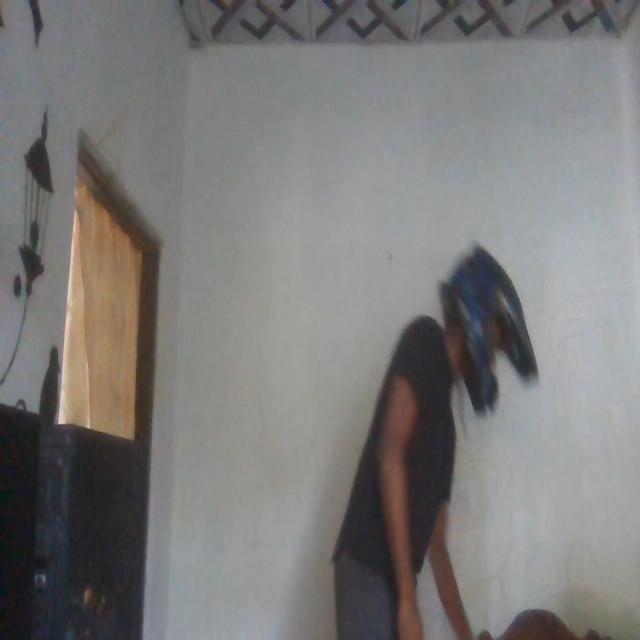Helmet_Wearer: (429, 234, 541, 425)
Person: (323, 234, 541, 640)
